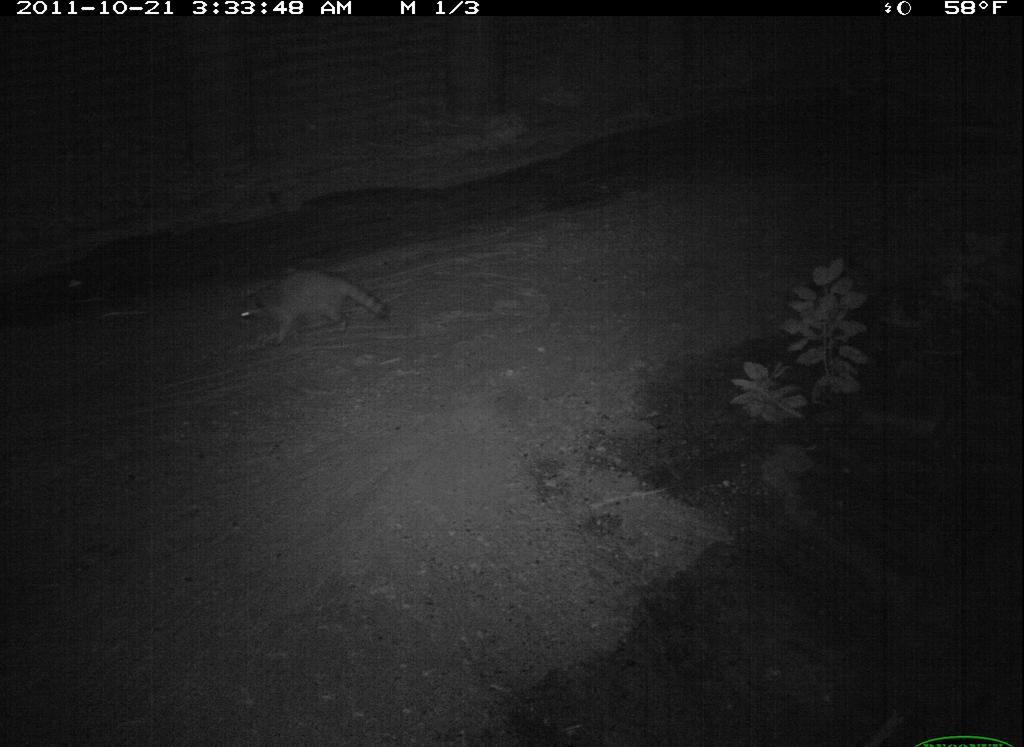raccoon: (232, 262, 396, 349)
